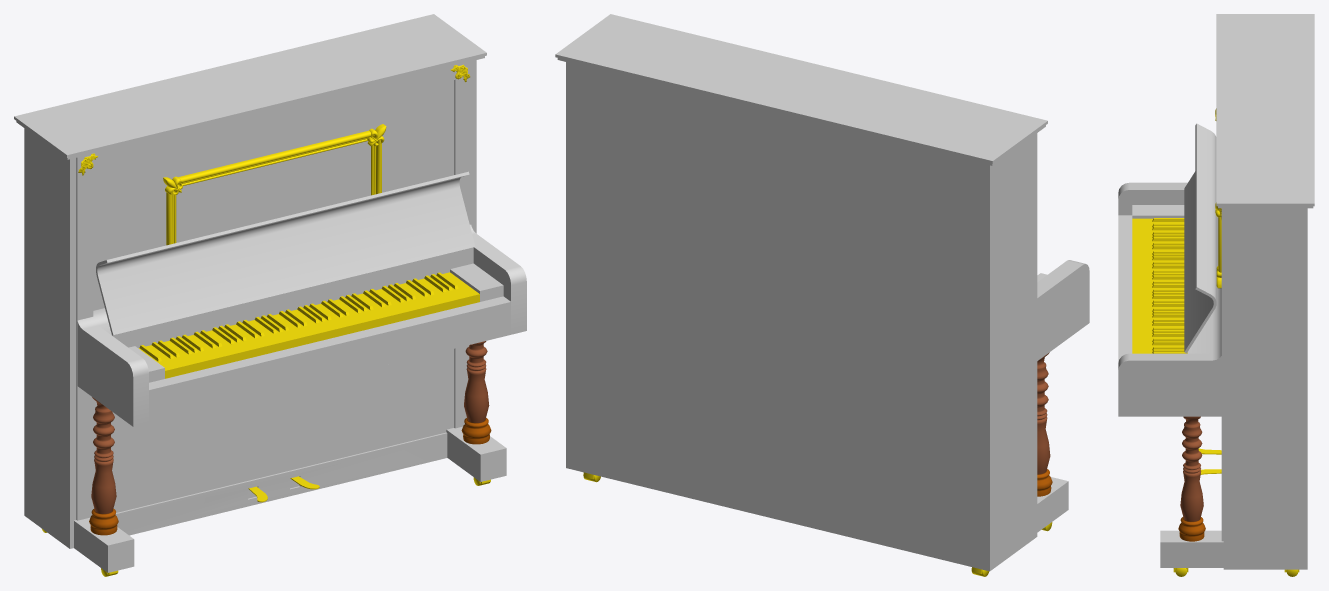
The model's file is piano.fbx.
3 renders of one model, left to right at view 1: azimuth 30°, elevation 25°; view 2: azimuth 150°, elevation 25°; view 3: azimuth 270°, elevation 25°, orthographic. The views are drawn at different scales.
Parts seen in each view (by area): view 1: piano; view 2: piano; view 3: piano.
Boxes of the visible parts, left/top/right/bottom form: piano: left=14, top=14, right=526, bottom=576; piano: left=555, top=14, right=1089, bottom=576; piano: left=1118, top=14, right=1314, bottom=576.
Size of the model in its own units: 1.6 by 1.5 by 0.7.
